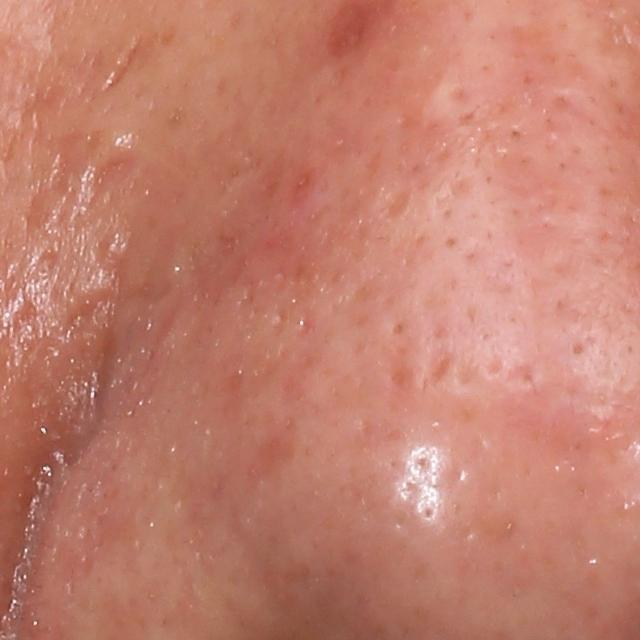atrophic_scar: (84, 148, 138, 201), (47, 129, 82, 200), (102, 37, 141, 91), (424, 343, 462, 392), (377, 186, 409, 222)
comedo: (565, 337, 585, 357)
